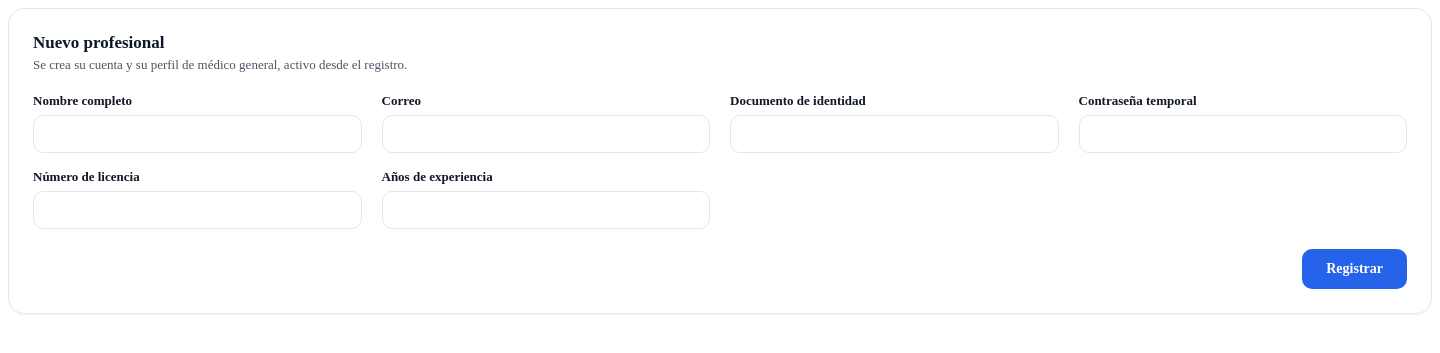
Scenario: RegisterProfessionalFormComponent › shows the field errors the api reports next to their fields
The width and height of the screenshot is (1440, 353).
Type "Ana Gómez" into the field labelled "Nombre completo". click: (197, 134)
box: [33,115,362,153]
Type "ana@telemed.test" into the field labelled "Correo". click: (546, 134)
box: [382,115,710,153]
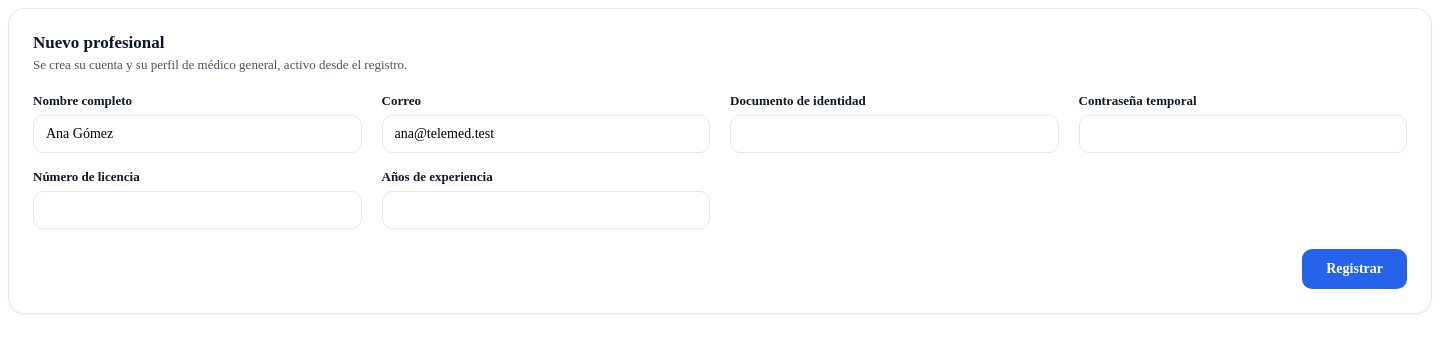
Type "1075000001" into the field labelled "Documento de identidad". click: (894, 134)
box: [730,115,1058,153]
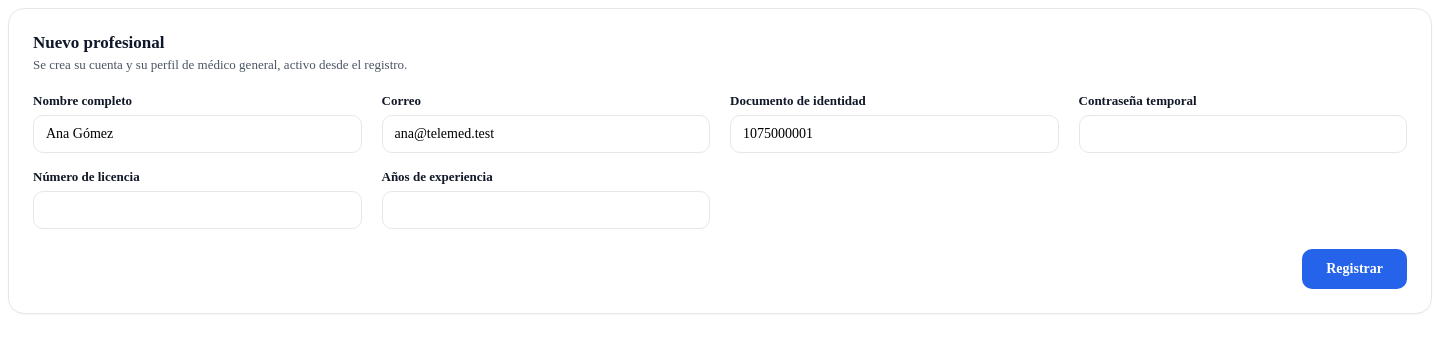
Type "temporary-pass-1" into the password field labelled "Contraseña temporal". click: (1243, 134)
box: [1078,115,1407,153]
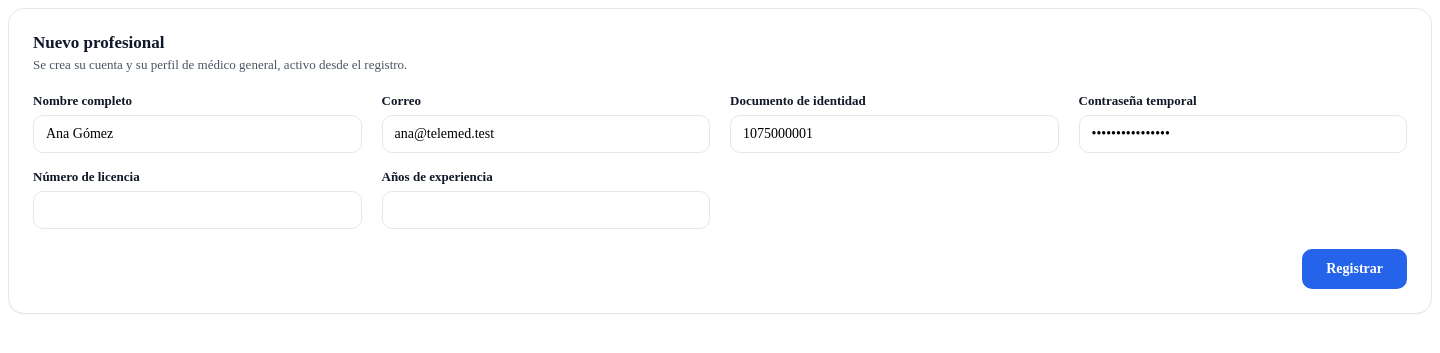
Type "RM-12345" into the field labelled "Número de licencia". click: (197, 210)
box: [33,191,362,229]
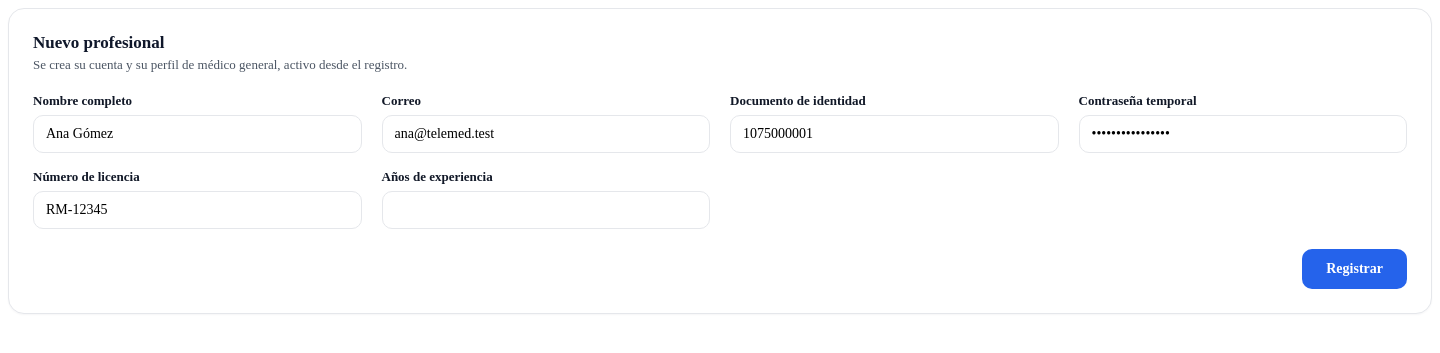
Type "7" into the field labelled "Años de experiencia". click: (546, 210)
box: [382,191,710,229]
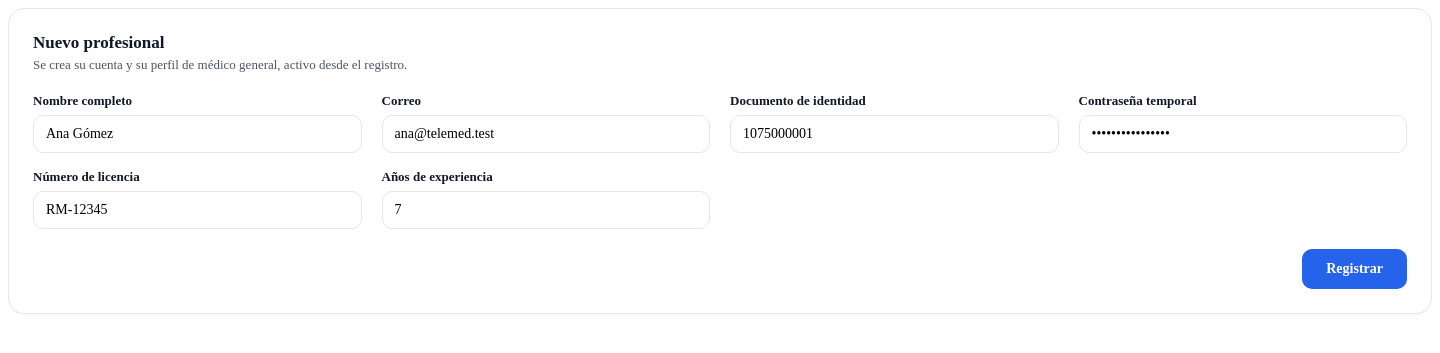
Submit the form
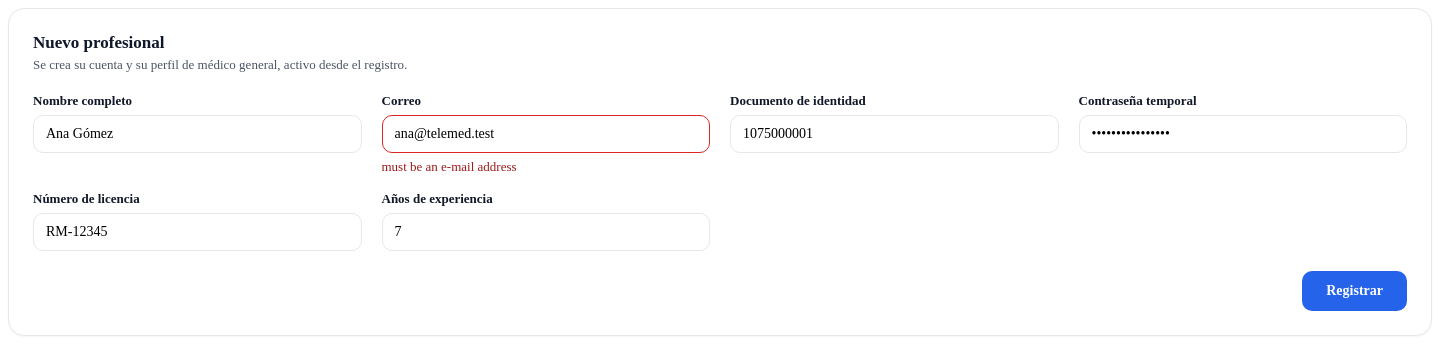
expect the text "must be an e-mail address" is shown: met, box [382,159,516,174]
